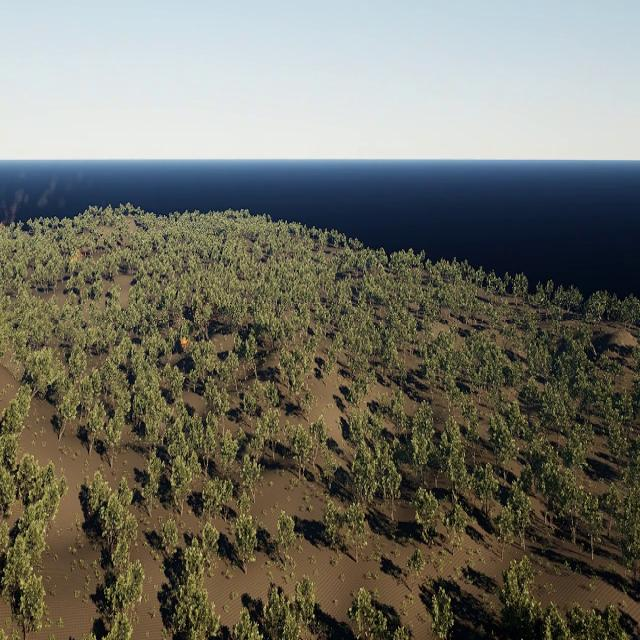fire: (180, 337, 187, 348)
smoke: (0, 163, 93, 227)
